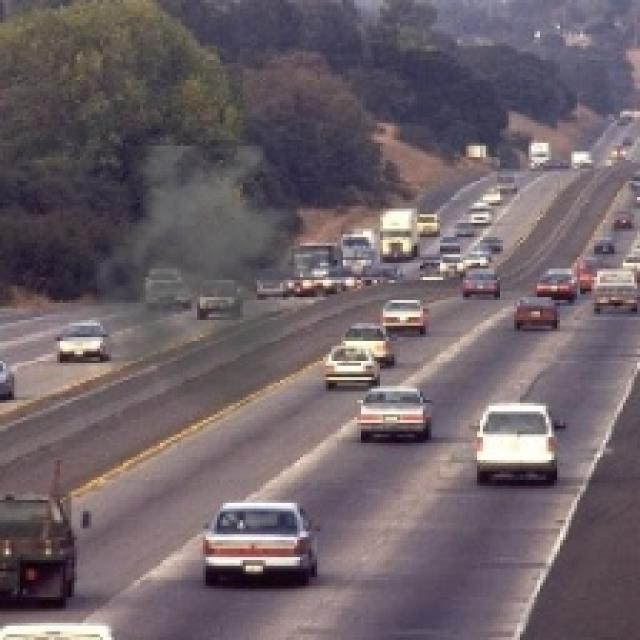Smoke: (77, 146, 334, 412)
